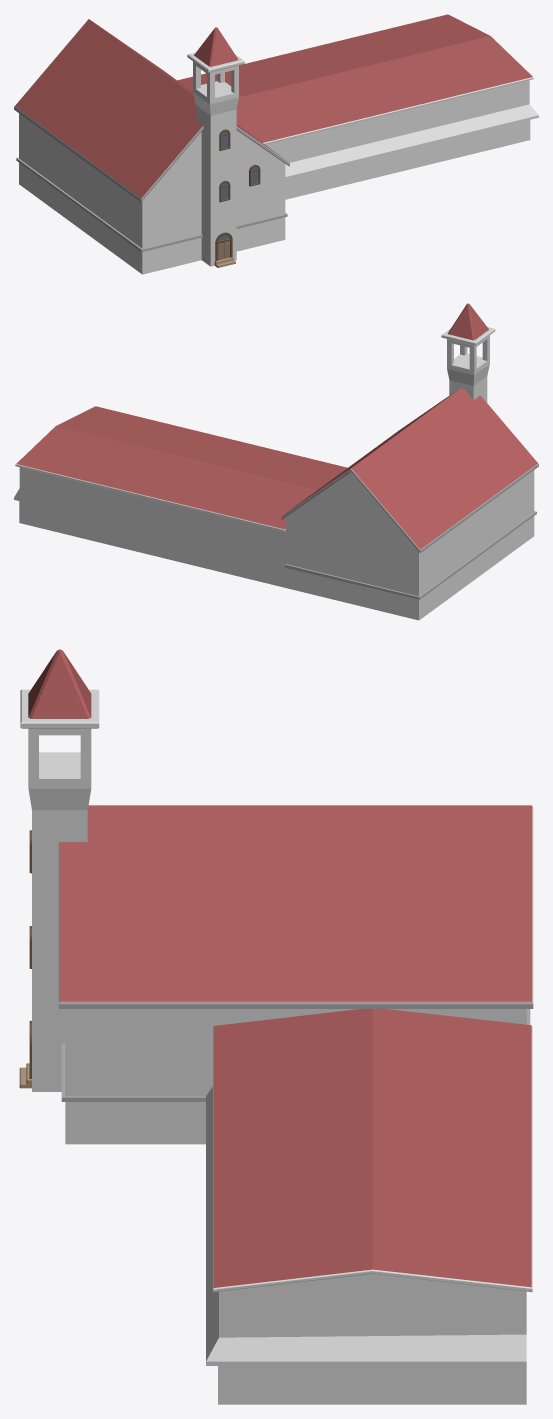
File: colegio.fbx
3 views of the same model, one above another, from view 1: azimuth 30°, elevation 25°; view 2: azimuth 150°, elevation 25°; view 3: azimuth 270°, elevation 25° (orthographic). The views are drawn at different scales.
Parts seen in each view (by area): view 1: iglesia, campanario, ventana_216; view 2: iglesia, campanario; view 3: iglesia, campanario.
Part boxes in pixels (x1,y1,x2,y2): iglesia: (14, 14, 538, 274); campanario: (187, 27, 244, 266); ventana_216: (215, 232, 232, 260); iglesia: (14, 387, 538, 620); campanario: (441, 303, 495, 402); iglesia: (58, 805, 533, 1404); campanario: (20, 649, 99, 1091).
Bounding box in the file's own units: 6127 × 3082 × 3339.
